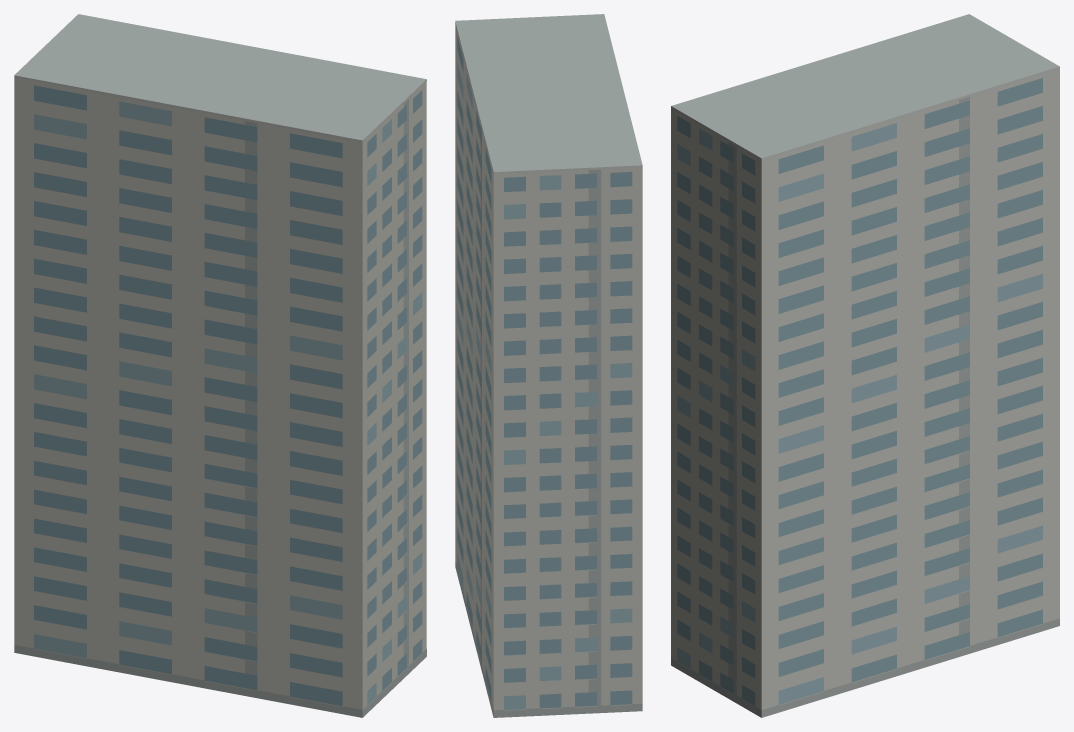
File: residential-e72ce566-4ee7-4c07-a3ce-9fddc925f47c.glb
3 views of the same model, side by side, from view 1: azimuth 30°, elevation 25°; view 2: azimuth 150°, elevation 25°; view 3: azimuth 270°, elevation 25° (orthographic). The views are drawn at different scales.
Visible parts, largest first — view 1: residential-e72ce566-4ee7-4c07-a3ce-9fddc925f47c.tmp; view 2: residential-e72ce566-4ee7-4c07-a3ce-9fddc925f47c.tmp; view 3: residential-e72ce566-4ee7-4c07-a3ce-9fddc925f47c.tmp.
Part boxes in pixels (x1,y1,x2,y2): residential-e72ce566-4ee7-4c07-a3ce-9fddc925f47c.tmp: (14, 14, 426, 717); residential-e72ce566-4ee7-4c07-a3ce-9fddc925f47c.tmp: (455, 14, 642, 717); residential-e72ce566-4ee7-4c07-a3ce-9fddc925f47c.tmp: (671, 14, 1059, 717).
Bounding box in the file's own units: 31.01 × 56 × 35.28.
